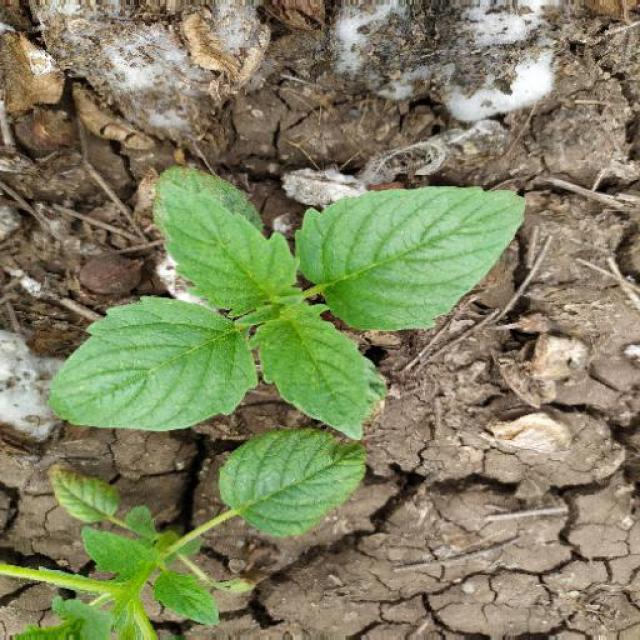crop: (44, 162, 538, 432), (14, 436, 376, 640)
